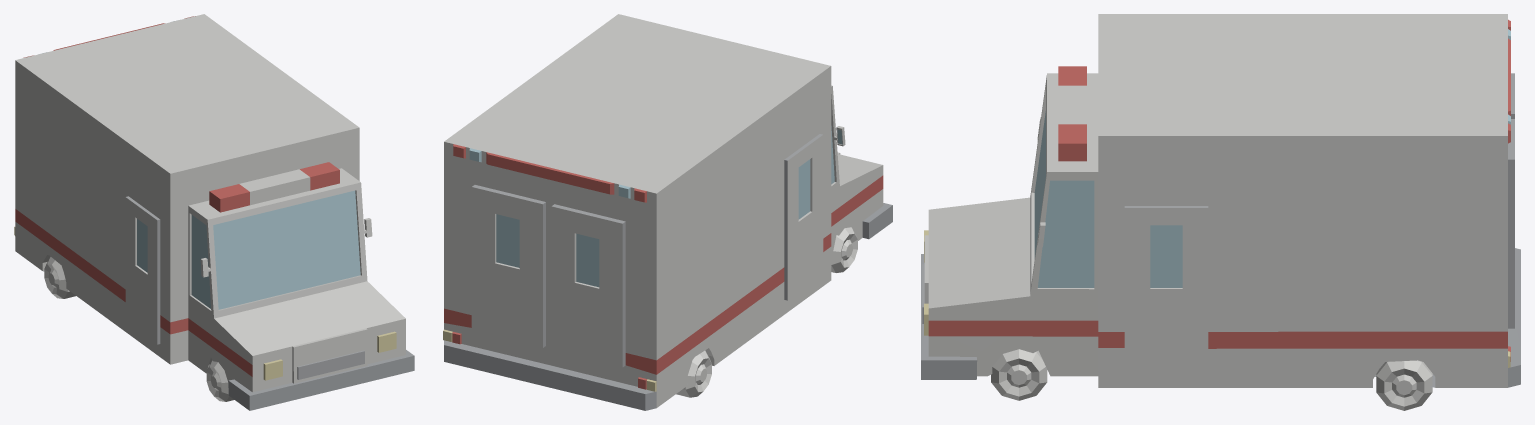
The model's file is Ambulance.glb.
The picture shows the model from 3 angles, left to right: view 1: azimuth 30°, elevation 25°; view 2: azimuth 150°, elevation 25°; view 3: azimuth 270°, elevation 25°; orthographic projection. The views are drawn at different scales.
Visible parts, largest first — view 1: Ambulance.obj; view 2: Ambulance.obj; view 3: Ambulance.obj.
Boxes of the visible parts, x1,y1,x2,y2 form: Ambulance.obj: (14, 14, 414, 410); Ambulance.obj: (443, 14, 892, 410); Ambulance.obj: (921, 14, 1520, 410).
Size of the model in its own units: 2.84 by 2.91 by 5.72.
